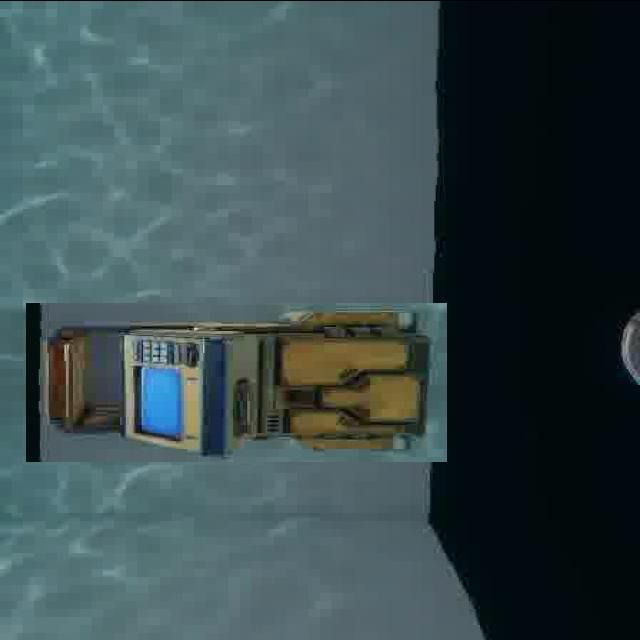Control Panel: (26, 302, 447, 461)
